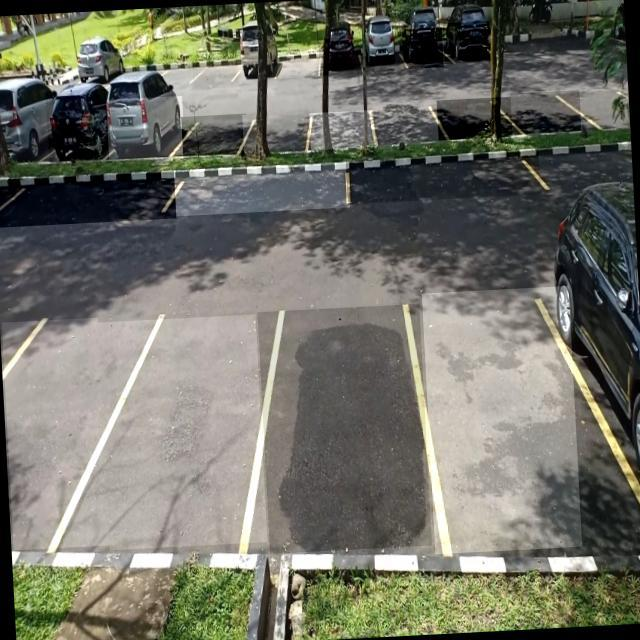empty: (258, 304, 432, 554), (422, 286, 582, 554), (98, 314, 267, 550), (1, 318, 110, 550), (0, 170, 177, 227), (346, 152, 540, 204), (174, 162, 350, 216), (437, 96, 512, 140), (242, 111, 313, 157), (373, 102, 440, 150), (511, 90, 582, 135), (182, 114, 248, 160), (309, 110, 375, 150), (192, 55, 240, 89), (277, 45, 320, 79)
occupied: (104, 96, 185, 159), (46, 89, 110, 164), (442, 21, 492, 64), (402, 27, 444, 69), (360, 32, 404, 72), (318, 36, 361, 76), (237, 47, 280, 81)
